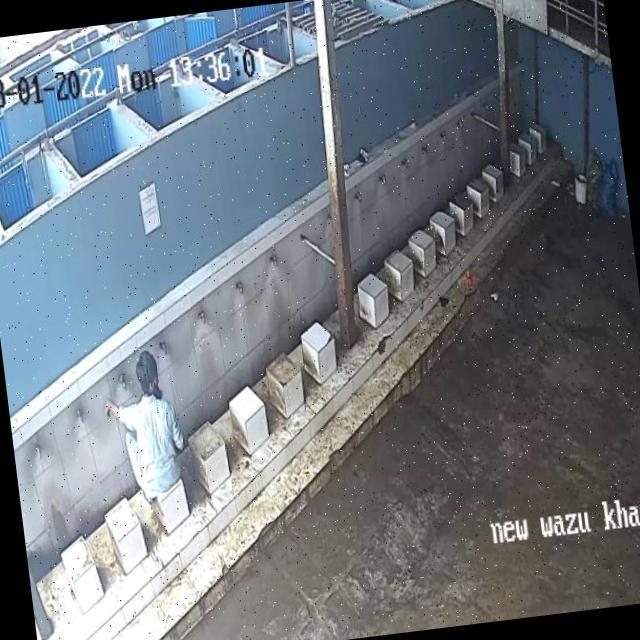person: (114, 341, 181, 499)
